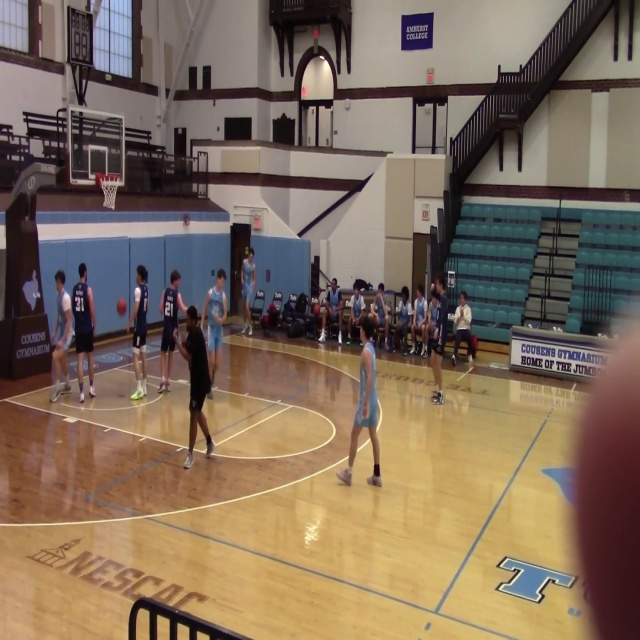Basketball: (117, 298, 126, 315)
